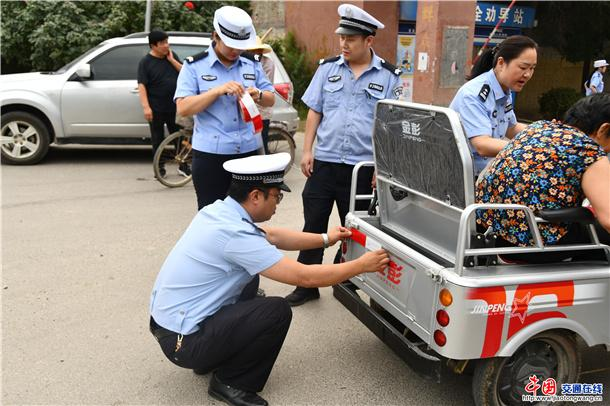overloading: (347, 81, 609, 380)
passenger: (481, 93, 610, 269)
